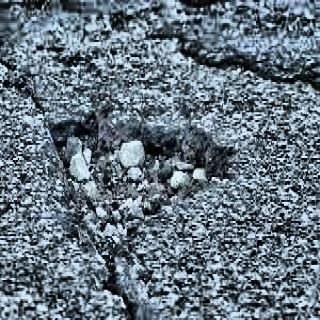pothole: (39, 106, 236, 229)
